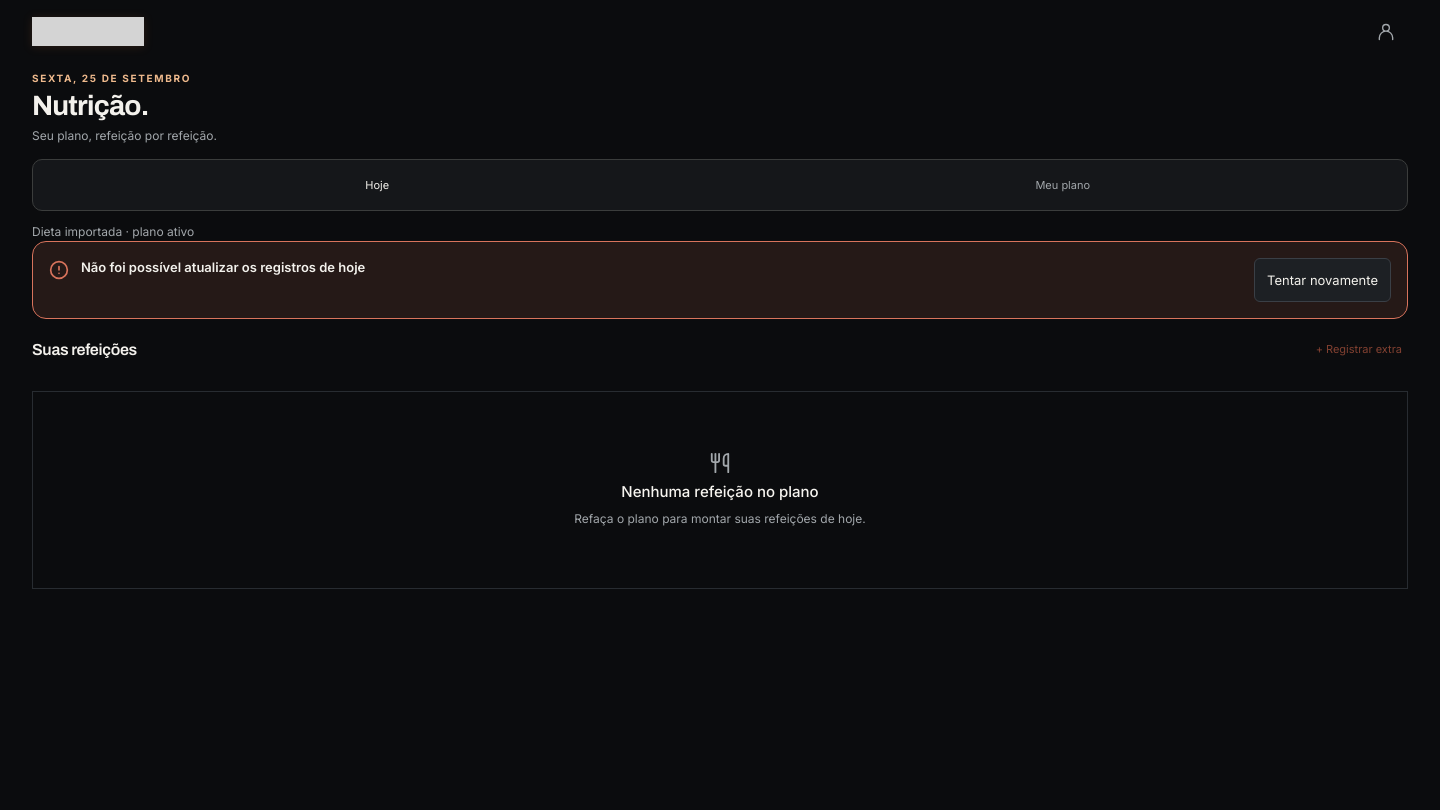
a diary read error does not render an empty consumption summary
The image size is (1440, 810).
Click the button "Tentar novamente" at (1323, 280), box [1254,258,1391,302]
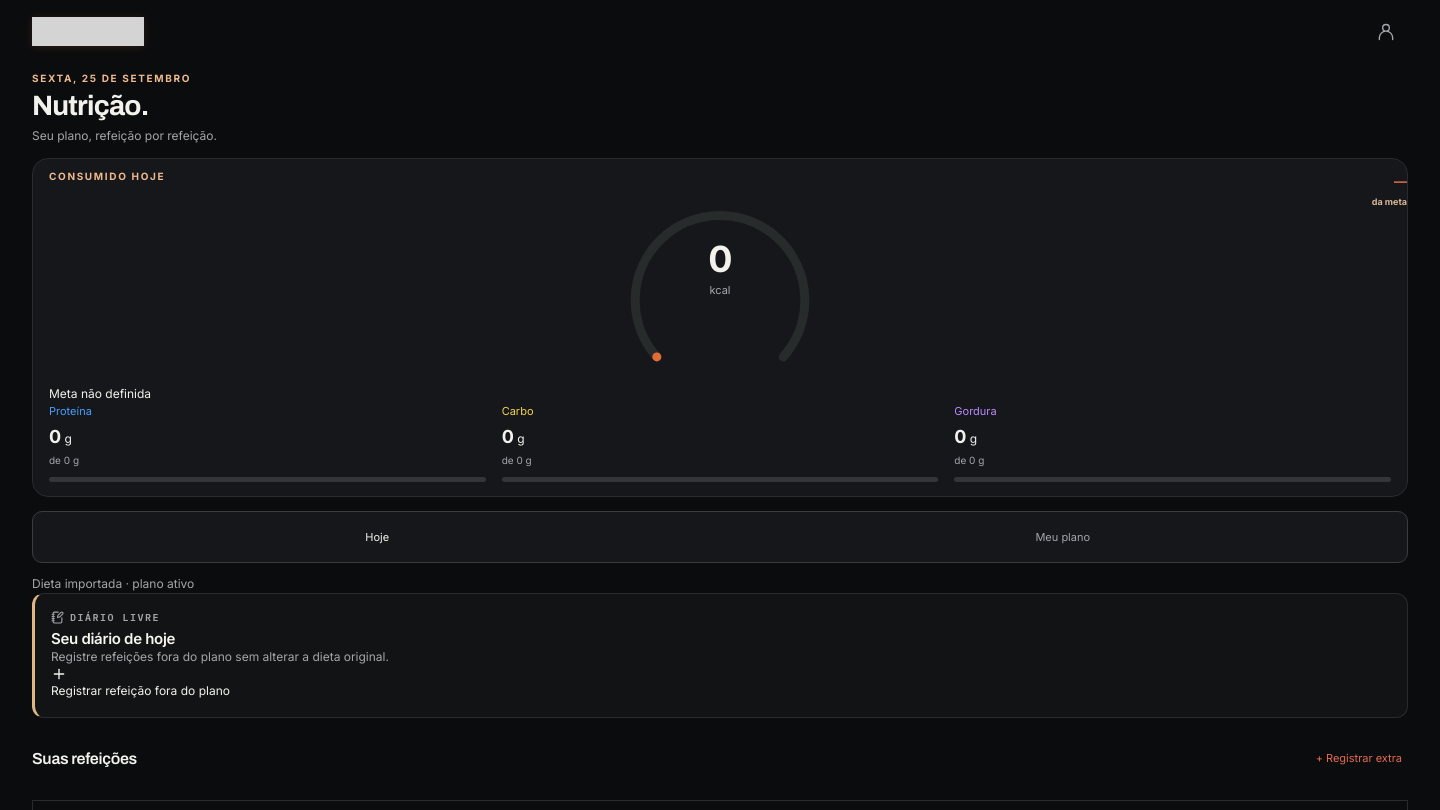
Check: the element with class "a6-gauge-panel" is shown, box [32,158,1408,497]
